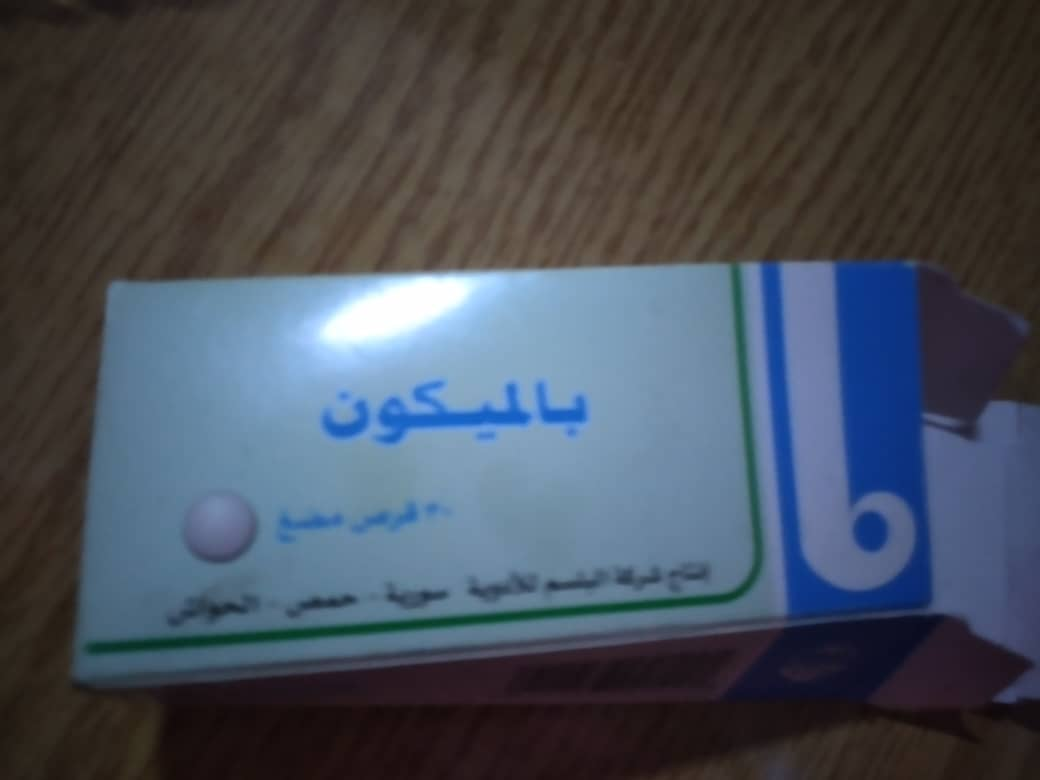Medicine: (36, 222, 1040, 726)
